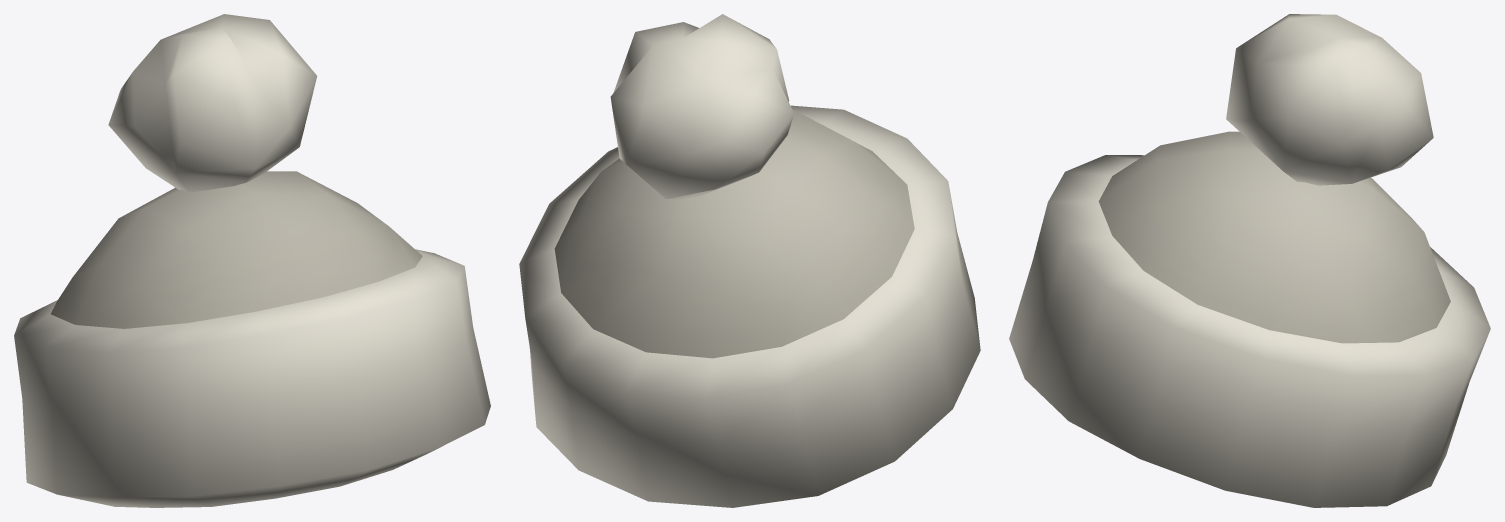
File: Headgear_7.fbx
The picture shows the model from 3 angles, left to right: view 1: azimuth 30°, elevation 25°; view 2: azimuth 150°, elevation 25°; view 3: azimuth 270°, elevation 25°; orthographic projection. The views are drawn at different scales.
Visible parts, largest first — view 1: Headgear_7; view 2: Headgear_7; view 3: Headgear_7.
Boxes of the visible parts, x1=… form: Headgear_7: x1=14, y1=14, x2=490, y2=507; Headgear_7: x1=519, y1=14, x2=980, y2=507; Headgear_7: x1=1009, y1=14, x2=1490, y2=507.
Bounding box in the file's own units: 66.58 × 70.68 × 69.61.
